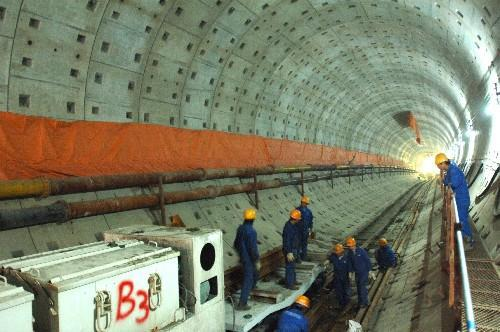helmet: (296, 293, 316, 314), (434, 151, 450, 172), (244, 207, 260, 227), (345, 234, 360, 253), (290, 209, 305, 225), (301, 194, 314, 209), (333, 241, 346, 256), (375, 237, 389, 249)
